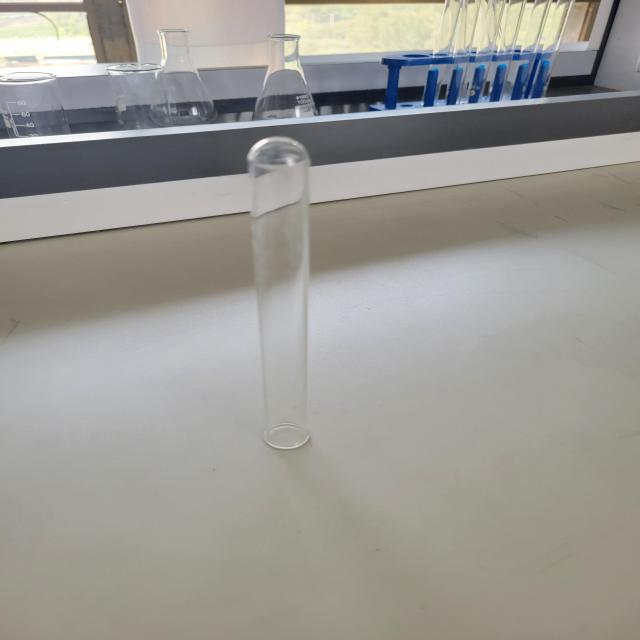Test_Tube: (212, 110, 375, 486)
